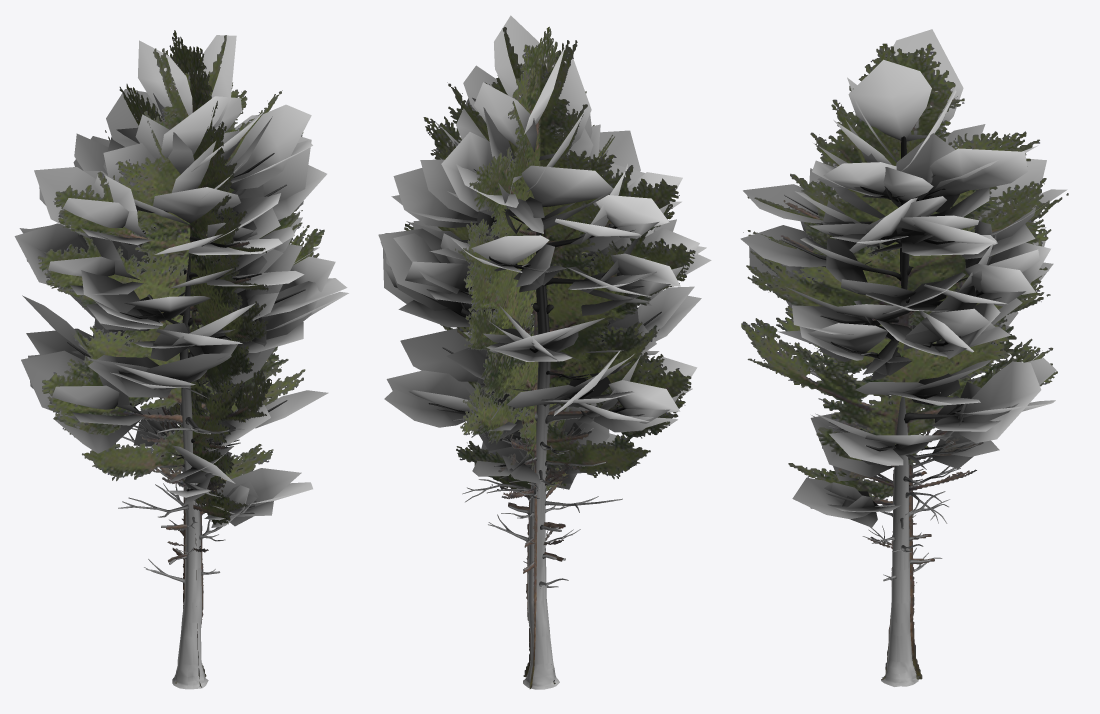
The model's file is Pine_01.fbx.
3 renders of one model, left to right at view 1: azimuth 30°, elevation 25°; view 2: azimuth 150°, elevation 25°; view 3: azimuth 270°, elevation 25°, orthographic.
Parts seen in each view (by area): view 1: Pine_01_LOD0, Billboard_Pine_01; view 2: Pine_01_LOD0, Billboard_Pine_01; view 3: Pine_01_LOD0, Billboard_Pine_01.
Boxes of the visible parts, left/top/right/bottom form: Pine_01_LOD0: left=14, top=35, right=348, bottom=689; Billboard_Pine_01: left=37, top=30, right=324, bottom=687; Pine_01_LOD0: left=378, top=15, right=711, bottom=689; Billboard_Pine_01: left=404, top=26, right=695, bottom=688; Pine_01_LOD0: left=740, top=29, right=1067, bottom=686; Billboard_Pine_01: left=741, top=43, right=1068, bottom=679.
Size of what is drawn, in the model's own units: 444 by 919 by 444.
